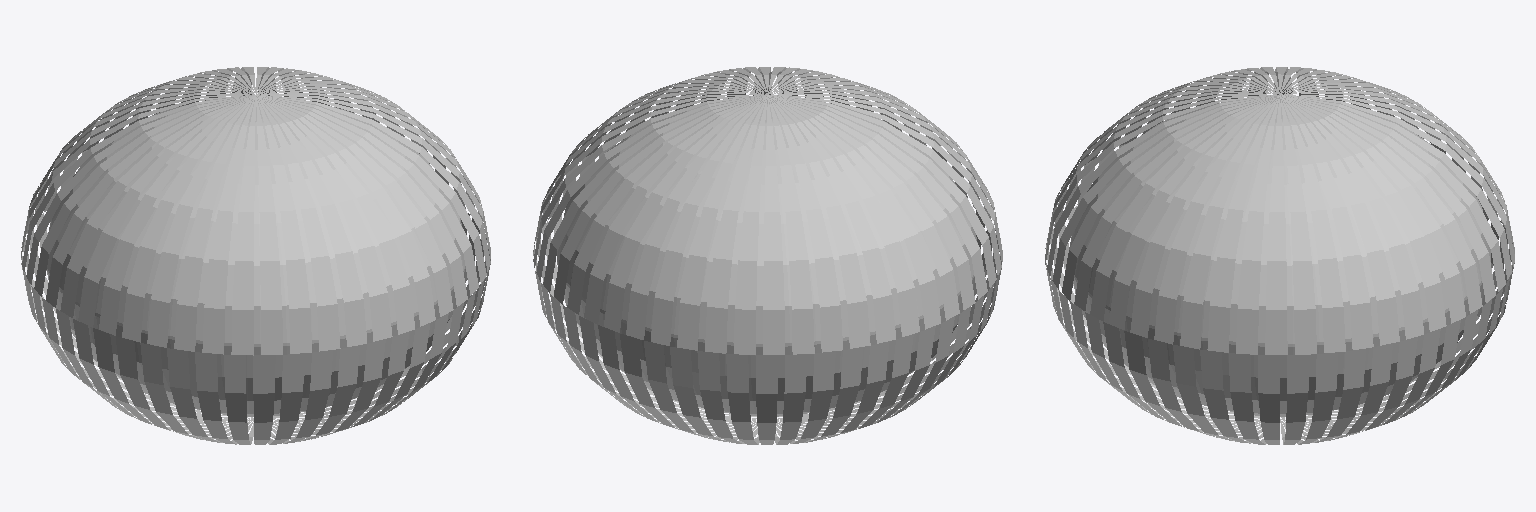
3 views of the same model, side by side, from view 1: azimuth 30°, elevation 25°; view 2: azimuth 150°, elevation 25°; view 3: azimuth 270°, elevation 25° (orthographic).
Parts seen in each view (by area): view 1: Mesh34 Group36 Component_2_34 Group2 Group1 Model, Mesh31 Group33 Component_2_31 Group2 Group1 Model, Mesh45 Group47 Component_2_45 Group2 Group1 Model, Mesh40 Group42 Component_2_40 Group2 Group1 Model, Mesh38 Group40 Component_2_38 Group2 Group1 Model, Mesh2 Group4 Component_2_2 Group2 Group1 Model, Mesh42 Group44 Component_2_42 Group2 Group1 Model, Mesh50 Group52 Component_2_50 Group2 Group1 Model, Mesh13 Group15 Component_2_13 Group2 Group1 Model, Mesh8 Group10 Component_2_8 Group2 Group1 Model, Mesh47 Group49 Component_2_47 Group2 Group1 Model, Mesh6 Group8 Component_2_6 Group2 Group1 Model (+28 smaller); view 2: Mesh12 Group14 Component_2_12 Group2 Group1 Model, Mesh10 Group12 Component_2_10 Group2 Group1 Model, Mesh27 Group29 Component_2_27 Group2 Group1 Model, Mesh20 Group22 Component_2_20 Group2 Group1 Model, Mesh5 Group7 Component_2_5 Group2 Group1 Model, Mesh21 Group23 Component_2_21 Group2 Group1 Model, Mesh11 Group13 Component_2_11 Group2 Group1 Model, Mesh43 Group45 Component_2_43 Group2 Group1 Model, Mesh22 Group24 Component_2_22 Group2 Group1 Model, Mesh17 Group19 Component_2_17 Group2 Group1 Model, Mesh41 Group43 Component_2_41 Group2 Group1 Model, Mesh33 Group35 Component_2_33 Group2 Group1 Model (+28 smaller); view 3: Mesh35 Group37 Component_2_35 Group2 Group1 Model, Mesh28 Group30 Component_2_28 Group2 Group1 Model, Mesh44 Group46 Component_2_44 Group2 Group1 Model, Mesh16 Group18 Component_2_16 Group2 Group1 Model, Mesh23 Group25 Component_2_23 Group2 Group1 Model, Mesh19 Group21 Component_2_19 Group2 Group1 Model, Mesh29 Group31 Component_2_29 Group2 Group1 Model, Mesh25 Group27 Component_2_25 Group2 Group1 Model, Mesh15 Group17 Component_2_15 Group2 Group1 Model, Mesh26 Group28 Component_2_26 Group2 Group1 Model, Mesh39 Group41 Component_2_39 Group2 Group1 Model, Mesh4 Group6 Component_2_4 Group2 Group1 Model (+28 smaller).
Boxes of the visible parts, box(x1,y1,x2,y2) form: Mesh34 Group36 Component_2_34 Group2 Group1 Model: box(231, 97, 255, 355); Mesh31 Group33 Component_2_31 Group2 Group1 Model: box(256, 97, 282, 354); Mesh45 Group47 Component_2_45 Group2 Group1 Model: box(257, 98, 311, 353); Mesh40 Group42 Component_2_40 Group2 Group1 Model: box(202, 96, 255, 354); Mesh38 Group40 Component_2_38 Group2 Group1 Model: box(256, 95, 340, 351); Mesh2 Group4 Component_2_2 Group2 Group1 Model: box(174, 95, 255, 351); Mesh42 Group44 Component_2_42 Group2 Group1 Model: box(257, 96, 366, 346); Mesh50 Group52 Component_2_50 Group2 Group1 Model: box(147, 96, 254, 347); Mesh13 Group15 Component_2_13 Group2 Group1 Model: box(259, 97, 392, 341); Mesh8 Group10 Component_2_8 Group2 Group1 Model: box(122, 97, 252, 342); Mesh47 Group49 Component_2_47 Group2 Group1 Model: box(260, 97, 414, 334); Mesh6 Group8 Component_2_6 Group2 Group1 Model: box(99, 96, 253, 335); Mesh12 Group14 Component_2_12 Group2 Group1 Model: box(763, 98, 784, 354); Mesh10 Group12 Component_2_10 Group2 Group1 Model: box(768, 96, 814, 354); Mesh27 Group29 Component_2_27 Group2 Group1 Model: box(734, 96, 767, 354); Mesh20 Group22 Component_2_20 Group2 Group1 Model: box(705, 97, 766, 353); Mesh5 Group7 Component_2_5 Group2 Group1 Model: box(768, 95, 842, 352); Mesh21 Group23 Component_2_21 Group2 Group1 Model: box(677, 95, 767, 350); Mesh11 Group13 Component_2_11 Group2 Group1 Model: box(769, 96, 870, 348); Mesh43 Group45 Component_2_43 Group2 Group1 Model: box(651, 97, 765, 345); Mesh22 Group24 Component_2_22 Group2 Group1 Model: box(772, 98, 895, 343); Mesh17 Group19 Component_2_17 Group2 Group1 Model: box(626, 96, 765, 339); Mesh41 Group43 Component_2_41 Group2 Group1 Model: box(770, 96, 919, 336); Mesh33 Group35 Component_2_33 Group2 Group1 Model: box(769, 95, 940, 329); Mesh35 Group37 Component_2_35 Group2 Group1 Model: box(1280, 96, 1316, 354); Mesh28 Group30 Component_2_28 Group2 Group1 Model: box(1265, 99, 1287, 354); Mesh44 Group46 Component_2_44 Group2 Group1 Model: box(1236, 96, 1279, 354); Mesh16 Group18 Component_2_16 Group2 Group1 Model: box(1281, 97, 1345, 352); Mesh23 Group25 Component_2_23 Group2 Group1 Model: box(1207, 97, 1278, 352); Mesh19 Group21 Component_2_19 Group2 Group1 Model: box(1280, 95, 1373, 349); Mesh29 Group31 Component_2_29 Group2 Group1 Model: box(1180, 96, 1278, 349); Mesh25 Group27 Component_2_25 Group2 Group1 Model: box(1283, 98, 1399, 345); Mesh15 Group17 Component_2_15 Group2 Group1 Model: box(1154, 98, 1275, 344); Mesh26 Group28 Component_2_26 Group2 Group1 Model: box(1282, 96, 1423, 339); Mesh39 Group41 Component_2_39 Group2 Group1 Model: box(1130, 96, 1277, 337); Mesh4 Group6 Component_2_4 Group2 Group1 Model: box(1284, 97, 1446, 331).
Bounding box in the file's own units: 138 × 104 × 138.